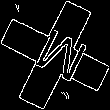M_SW: (23, 22, 87, 88)
